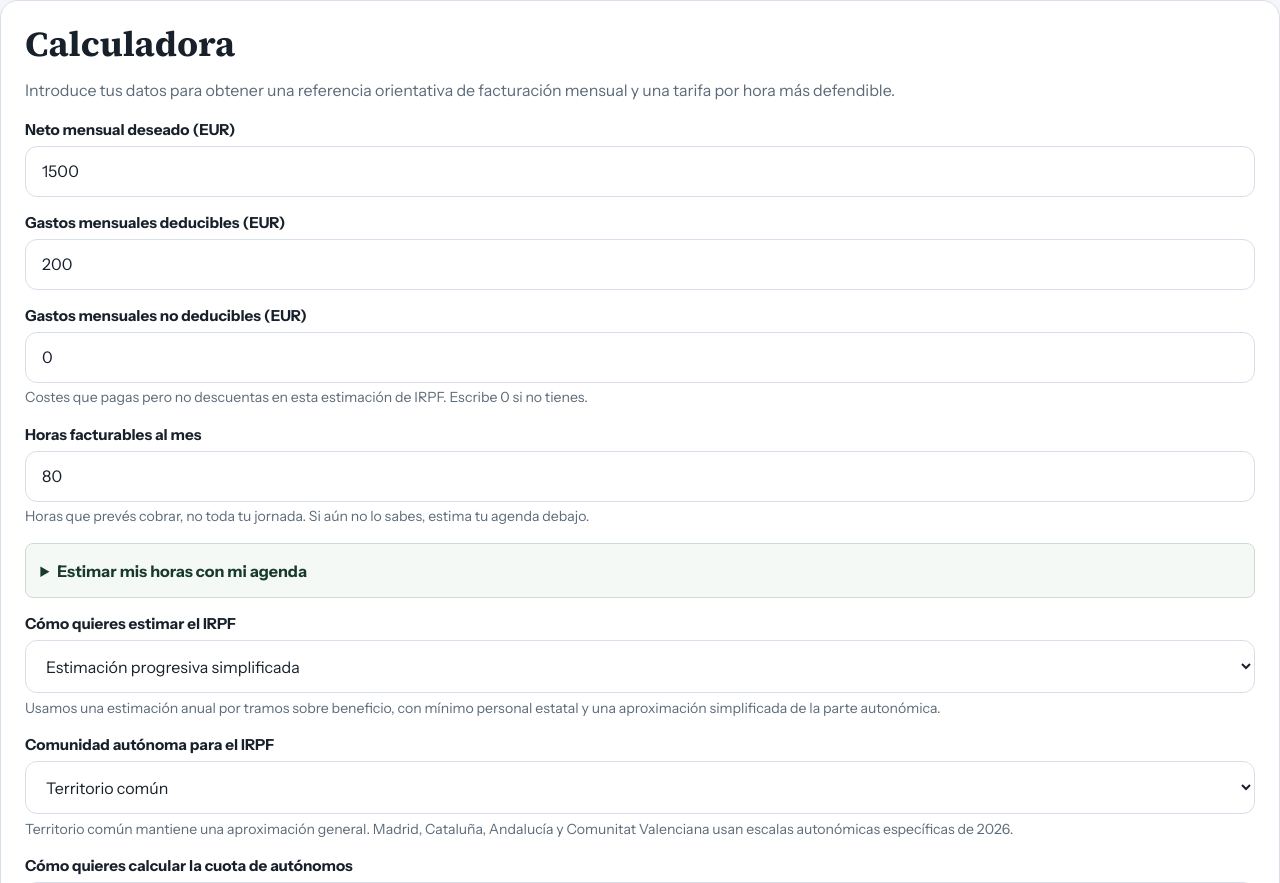
CalculatorForm › shows an error when the target net is 0
Step 1. Replace the text in the number field labelled "Neto mensual deseado (EUR)" with "0" → (640, 171), box [25,146,1255,197]
(page scrolled)
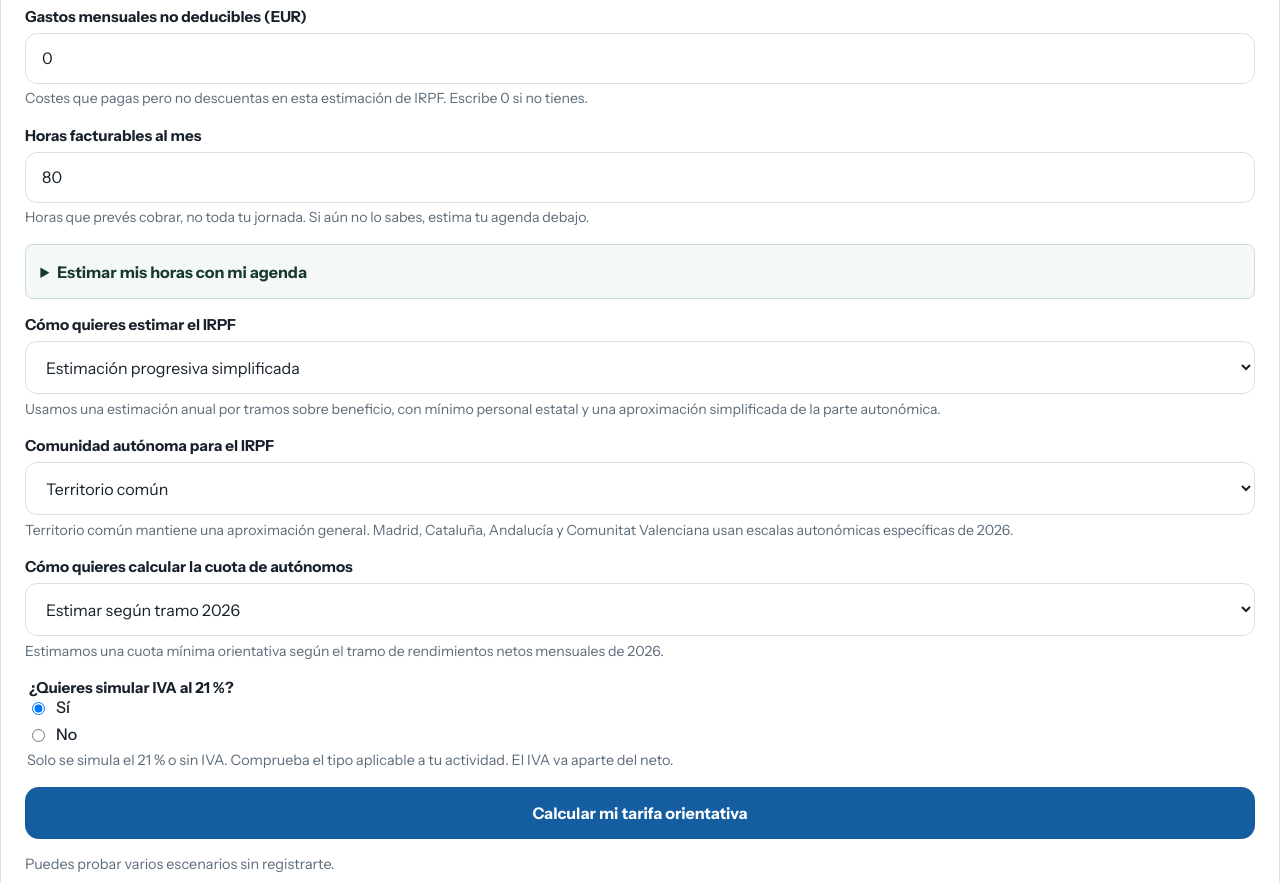
Step 2. Click the button "Calcular mi tarifa orientativa" → (640, 813), box [25,787,1255,839]
(page scrolled)
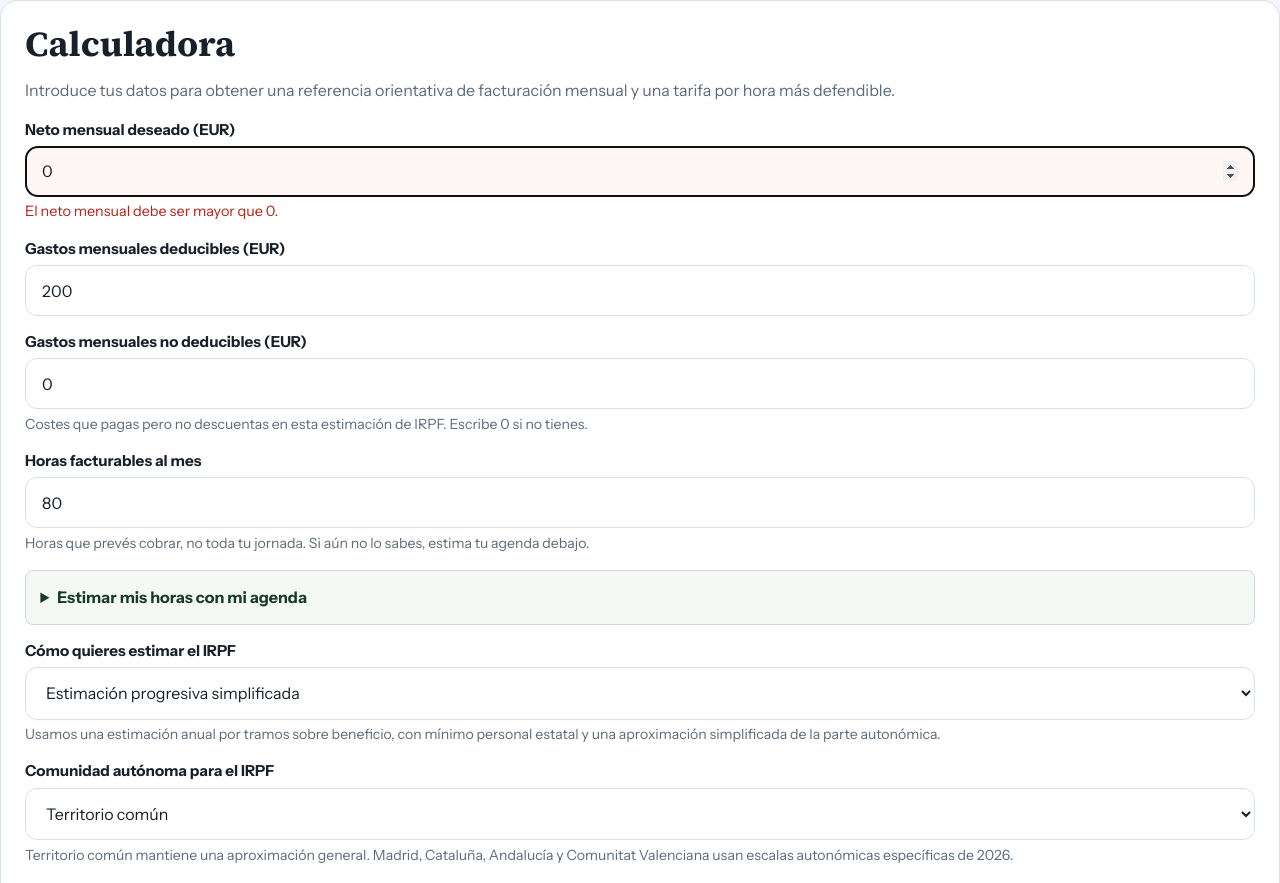
expect the text "El neto mensual debe ser mayor que 0." is shown: met, box [25,202,278,220]
